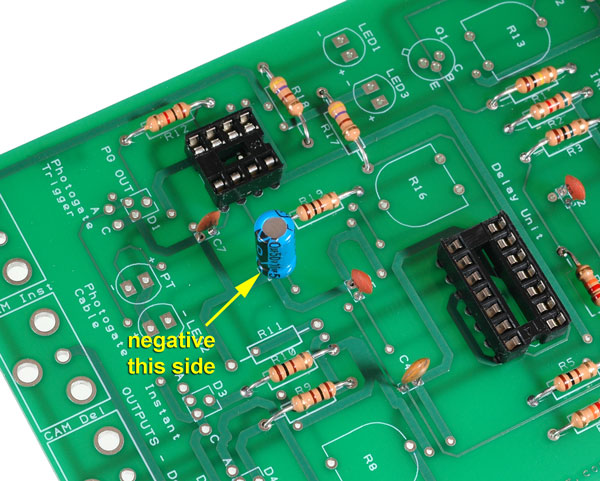capacitor: (254, 209, 297, 281)
resistor: (326, 99, 362, 143), (269, 76, 306, 118), (268, 352, 316, 383), (555, 360, 600, 393), (146, 103, 191, 133), (529, 91, 574, 121), (292, 382, 336, 412), (297, 192, 341, 221), (515, 65, 559, 94), (545, 119, 589, 147), (571, 400, 600, 430)
